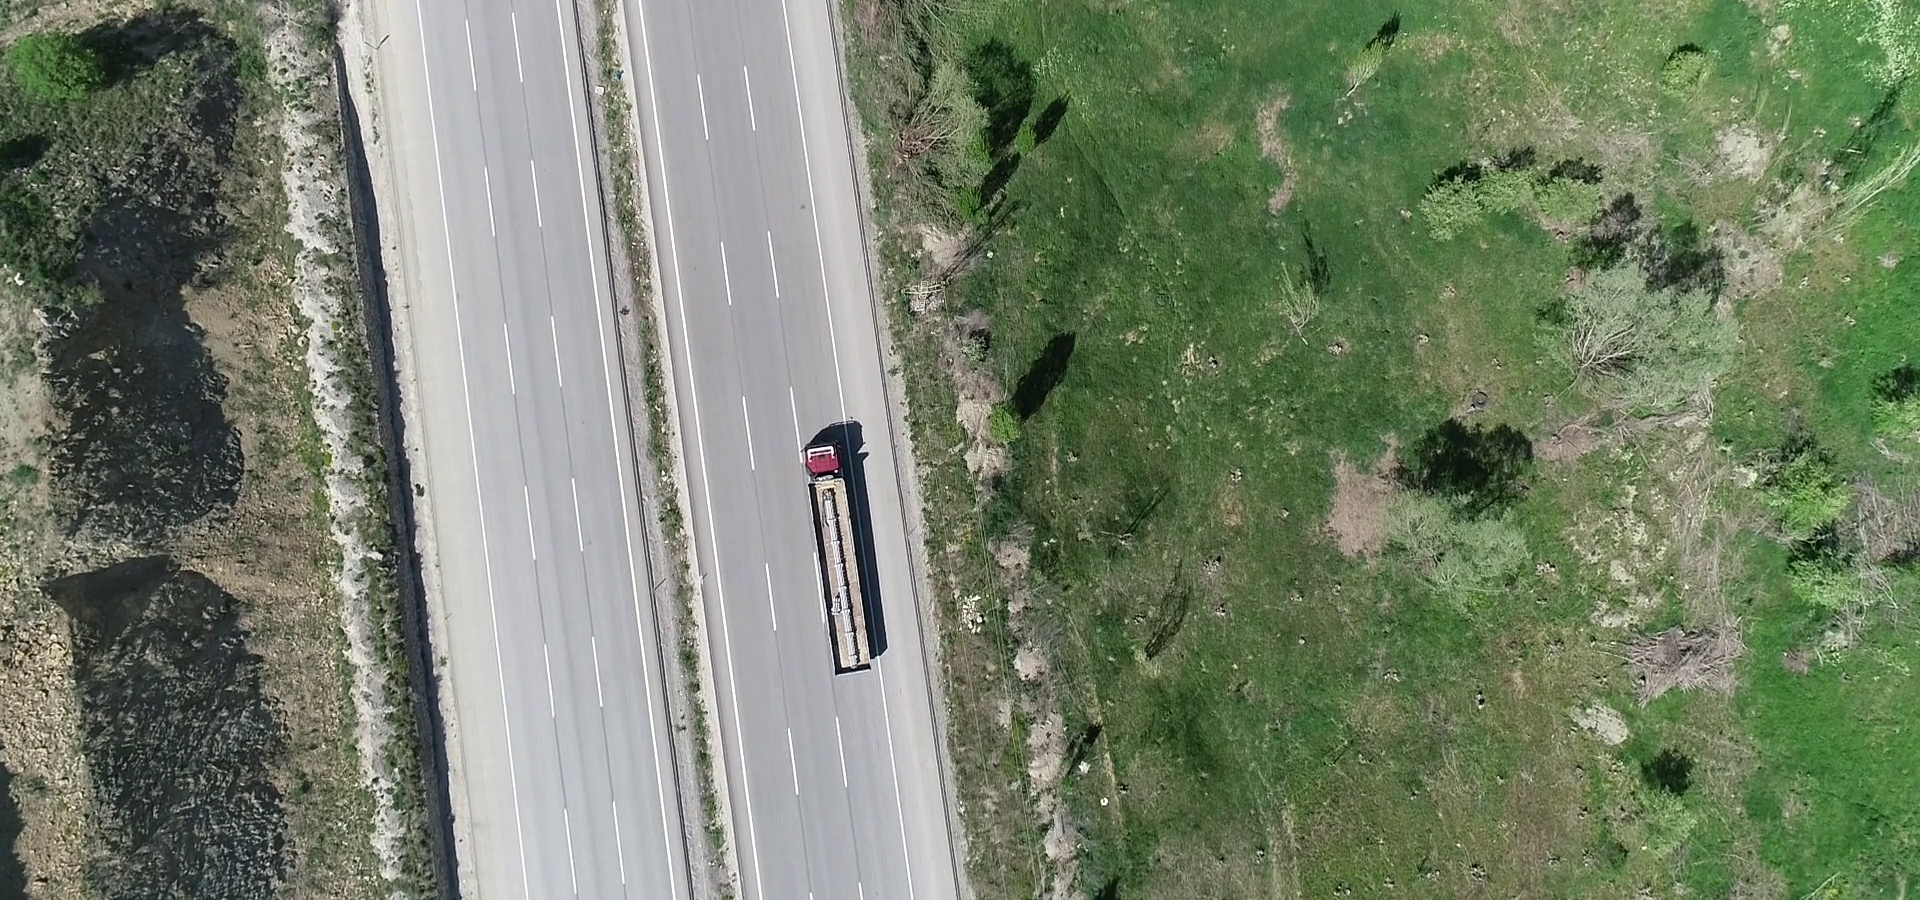arac: (793, 431, 885, 683)
